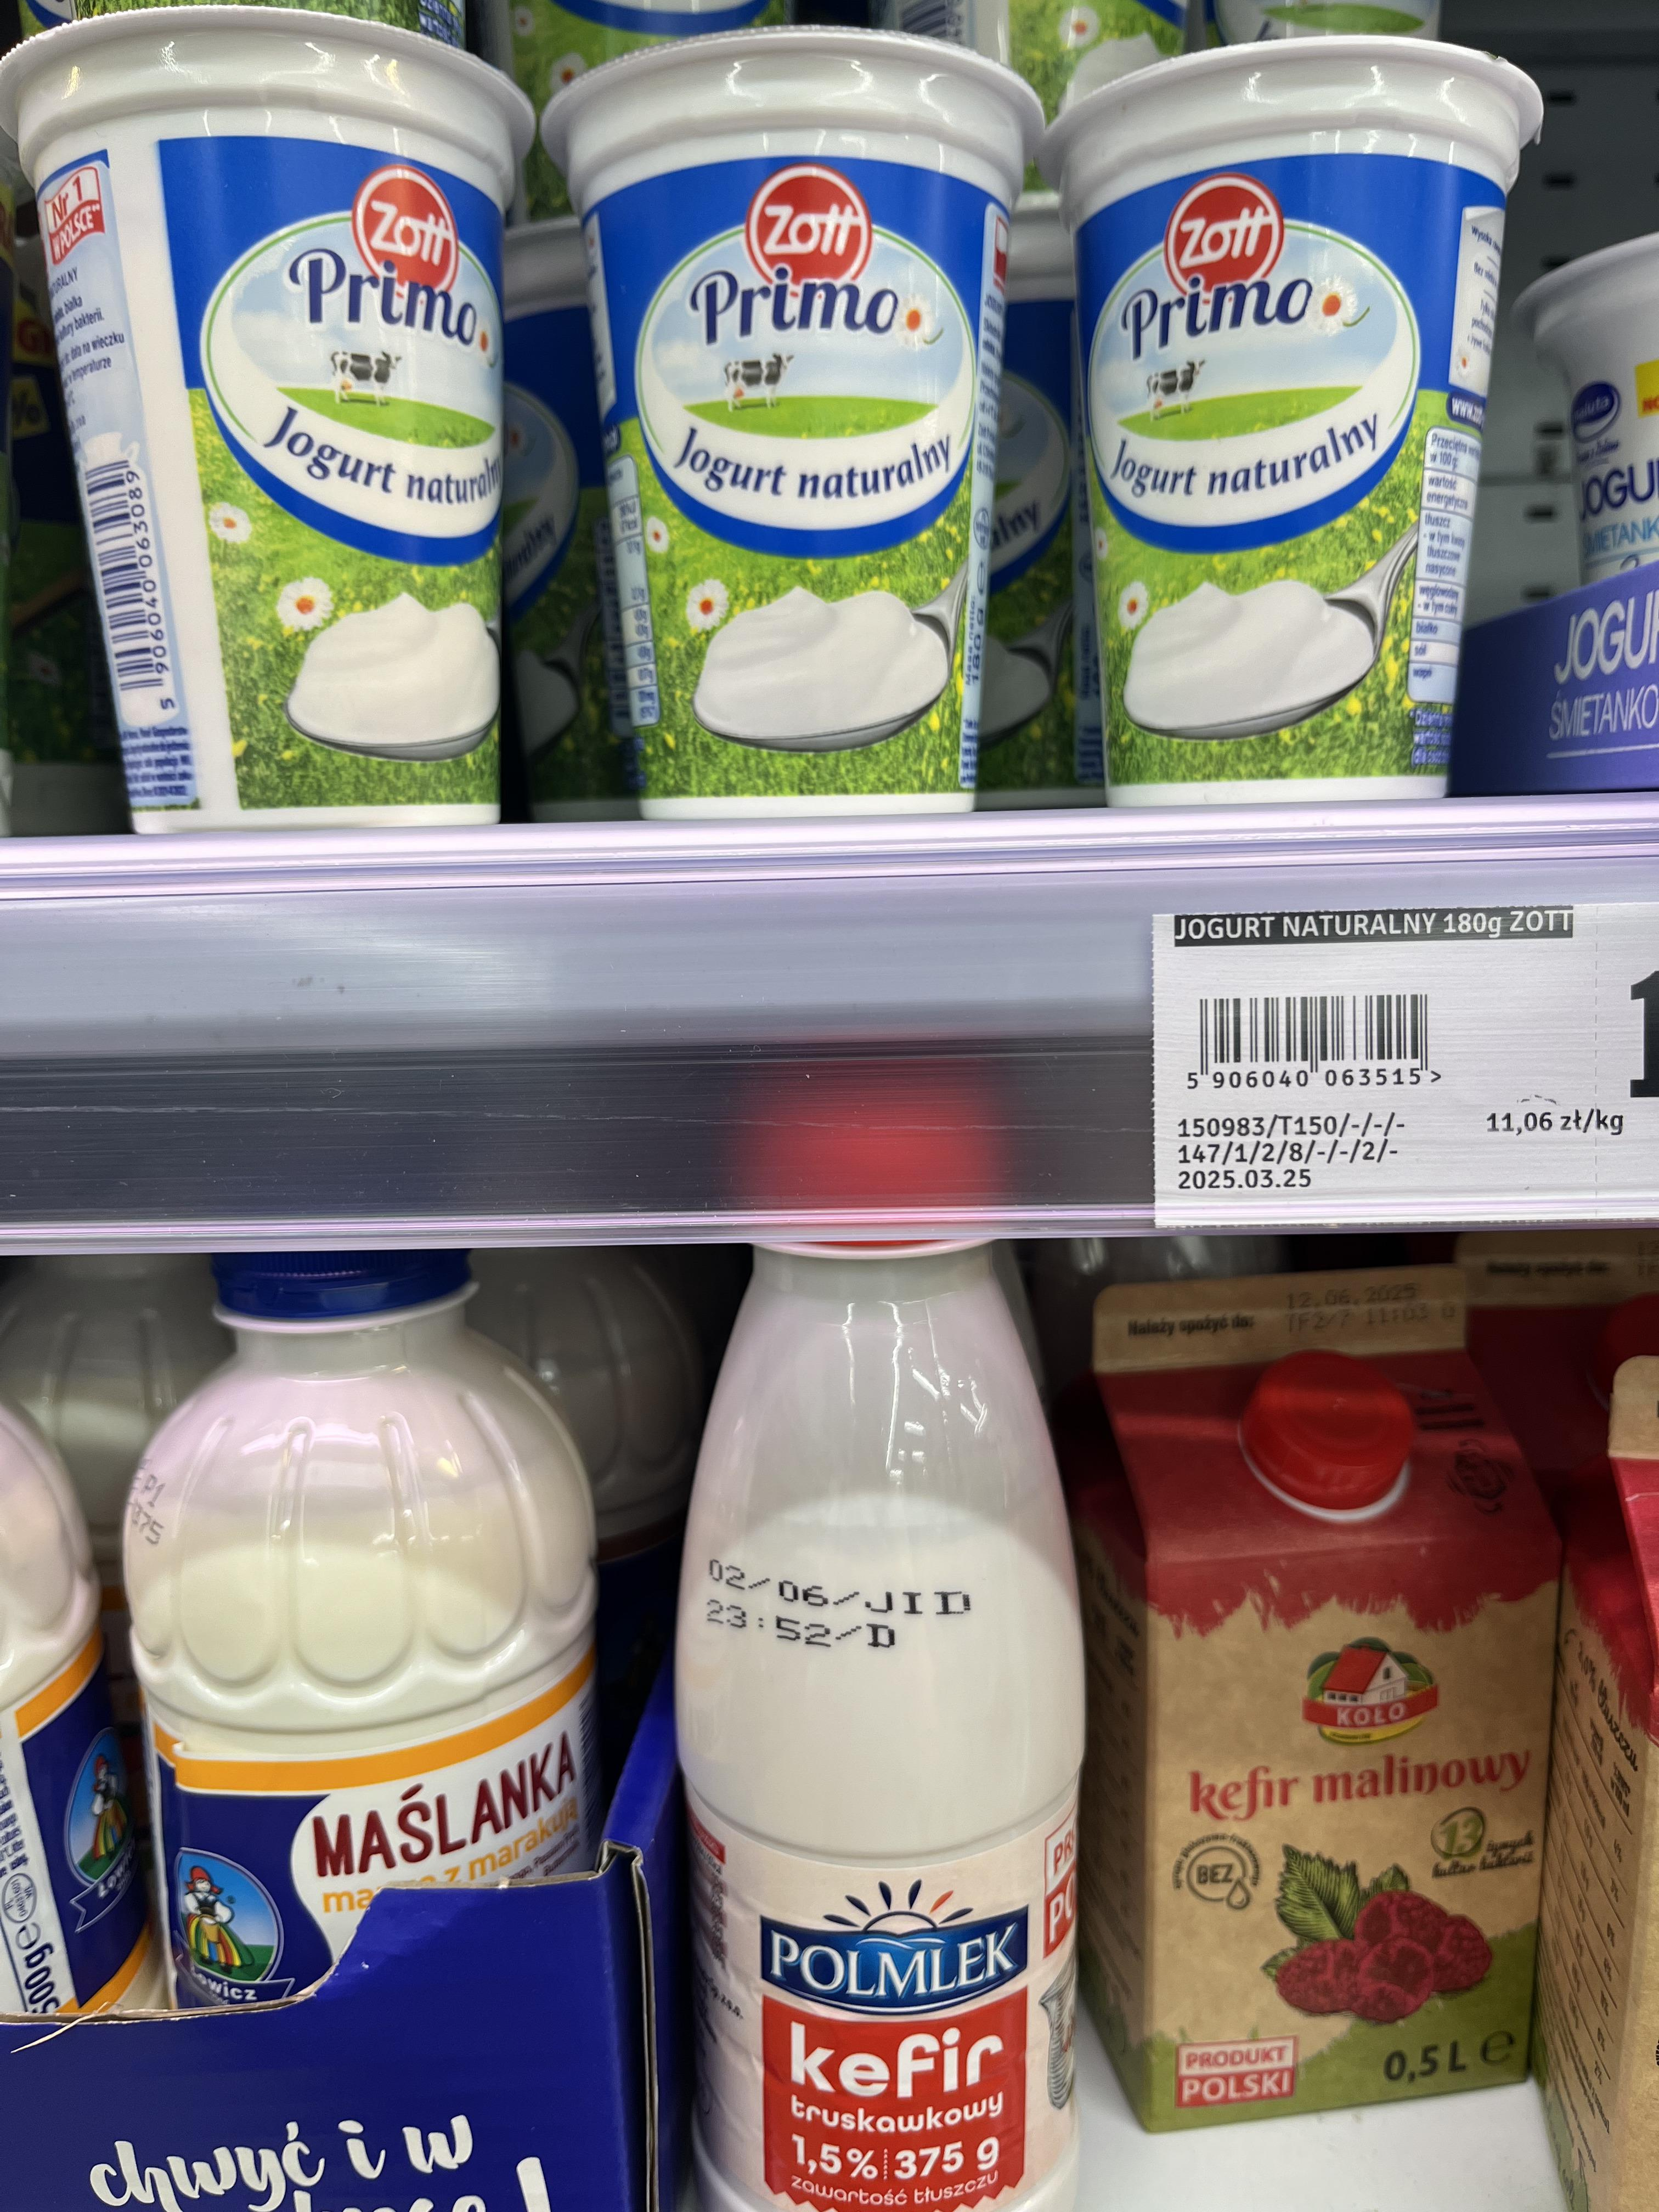Yogurt: (35, 23, 537, 834), (591, 57, 1016, 827), (1080, 49, 1481, 773)
